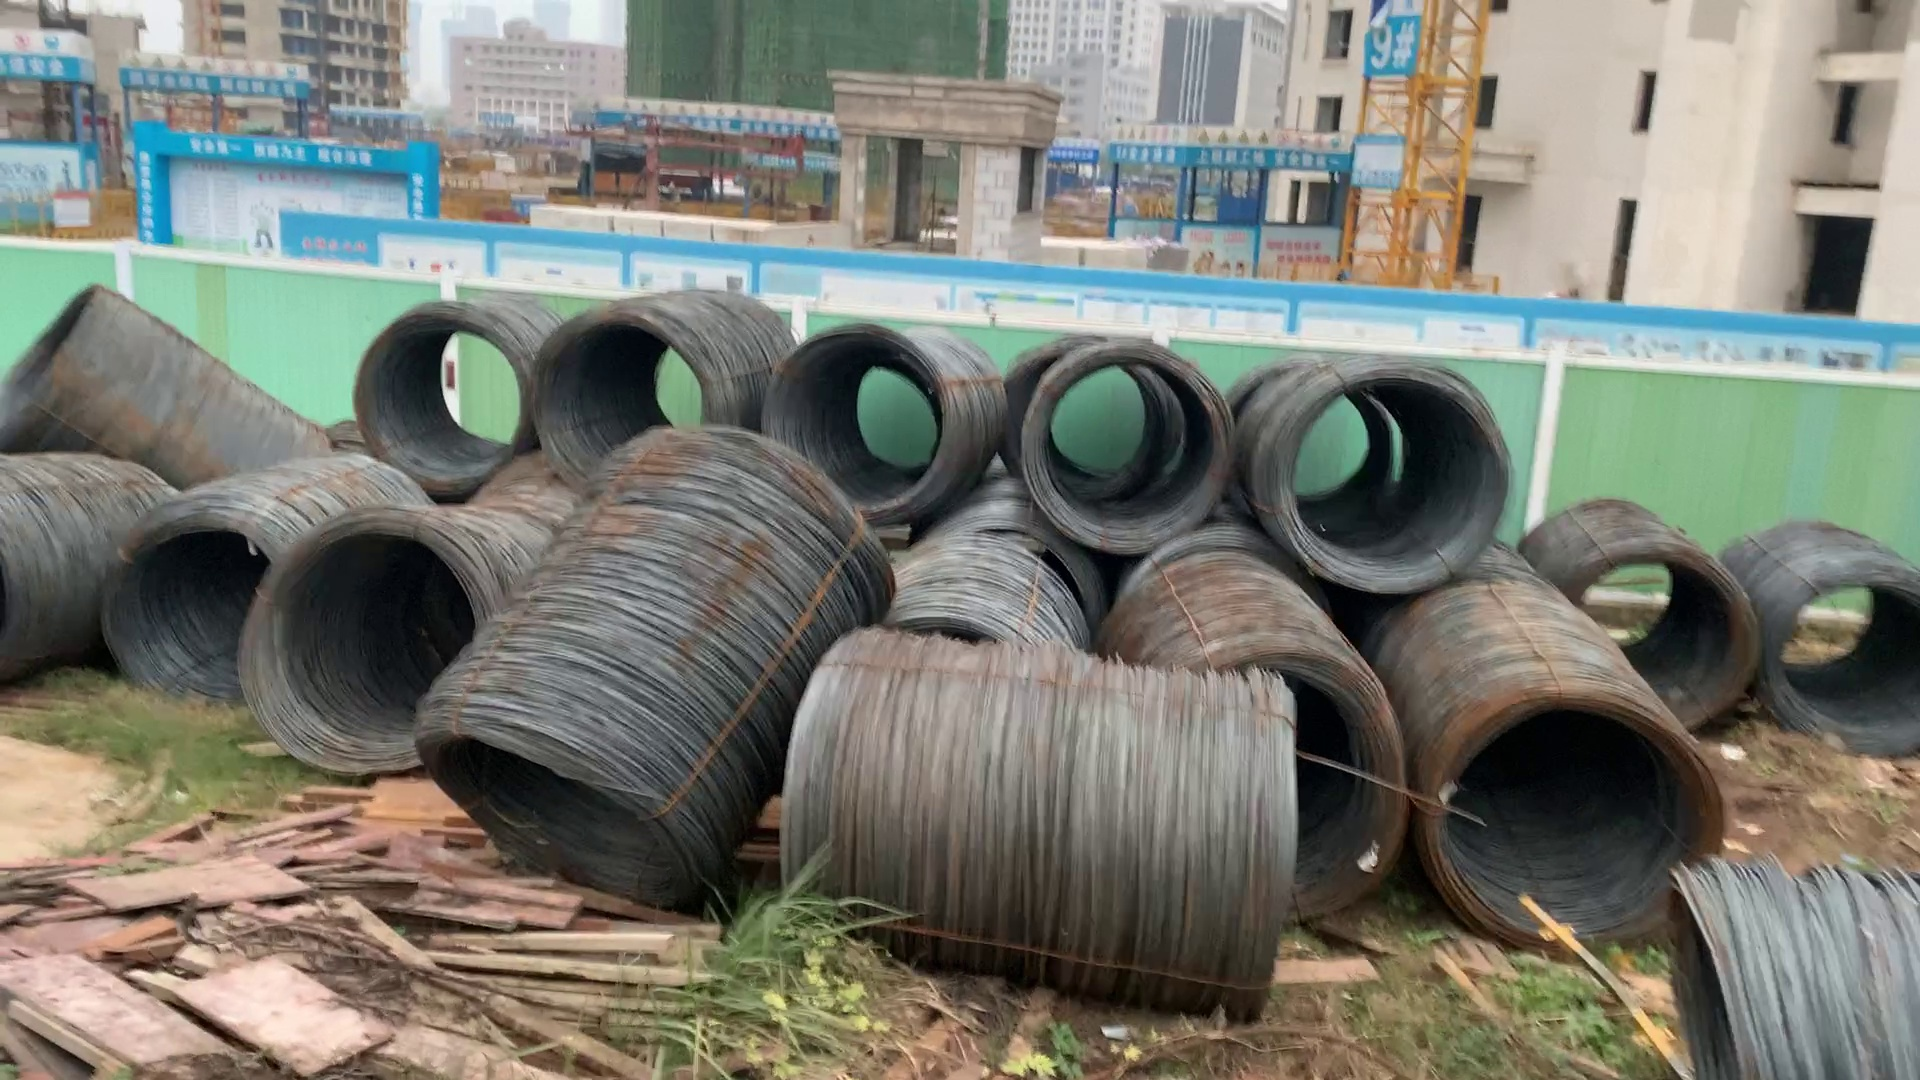coil: (1154, 651, 1422, 932), (1437, 716, 1721, 960), (421, 716, 727, 942), (249, 524, 477, 774), (1276, 371, 1505, 591), (1543, 543, 1763, 741), (1033, 349, 1229, 560), (771, 327, 957, 521), (104, 521, 265, 716), (541, 318, 713, 496), (349, 313, 538, 473), (1771, 566, 1920, 749), (1640, 866, 1753, 1080), (4, 272, 94, 407)
